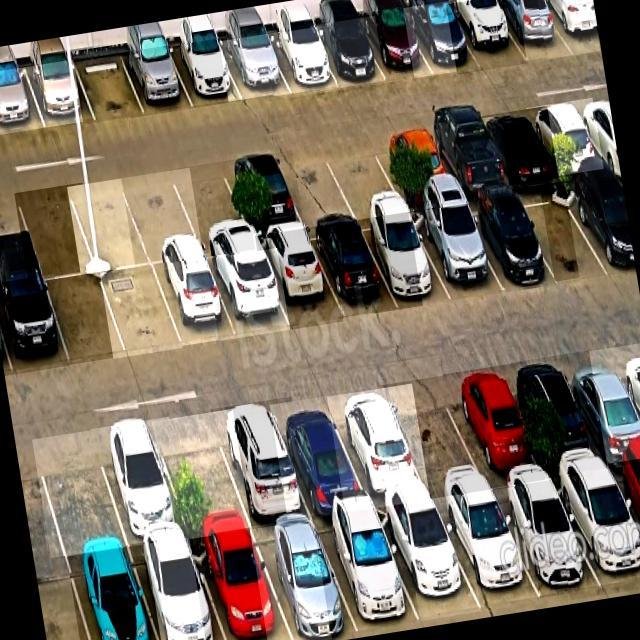empty: (383, 377, 490, 499), (153, 417, 252, 537), (33, 430, 127, 556), (513, 183, 610, 281), (171, 162, 255, 257), (67, 179, 151, 273), (122, 172, 204, 265), (15, 186, 96, 279), (100, 266, 183, 356), (46, 275, 126, 364), (275, 146, 355, 223), (322, 138, 403, 213), (74, 53, 146, 121)
occupied: (314, 510, 421, 638), (251, 521, 358, 640), (493, 481, 601, 598), (375, 502, 482, 620), (434, 490, 540, 609), (212, 401, 311, 526), (444, 367, 546, 488), (327, 389, 430, 505), (92, 422, 188, 545), (270, 398, 369, 516), (512, 357, 608, 477), (190, 530, 293, 640), (552, 468, 640, 594), (131, 538, 225, 640), (561, 351, 640, 467), (460, 197, 555, 292), (410, 206, 504, 301), (308, 220, 398, 317), (256, 229, 343, 329), (358, 213, 451, 306), (68, 547, 158, 640), (154, 259, 238, 346), (565, 175, 636, 277), (207, 251, 290, 337), (0, 278, 69, 375), (425, 120, 510, 198), (222, 154, 304, 234), (374, 129, 455, 202), (480, 110, 559, 184), (447, 0, 527, 71), (527, 103, 604, 175), (404, 4, 481, 75), (359, 8, 433, 81), (311, 19, 385, 87), (121, 47, 193, 115), (168, 43, 243, 108), (492, 0, 573, 60), (25, 60, 95, 128), (264, 30, 338, 93), (220, 36, 289, 99), (542, 0, 600, 53), (0, 68, 45, 135), (609, 461, 640, 534)
